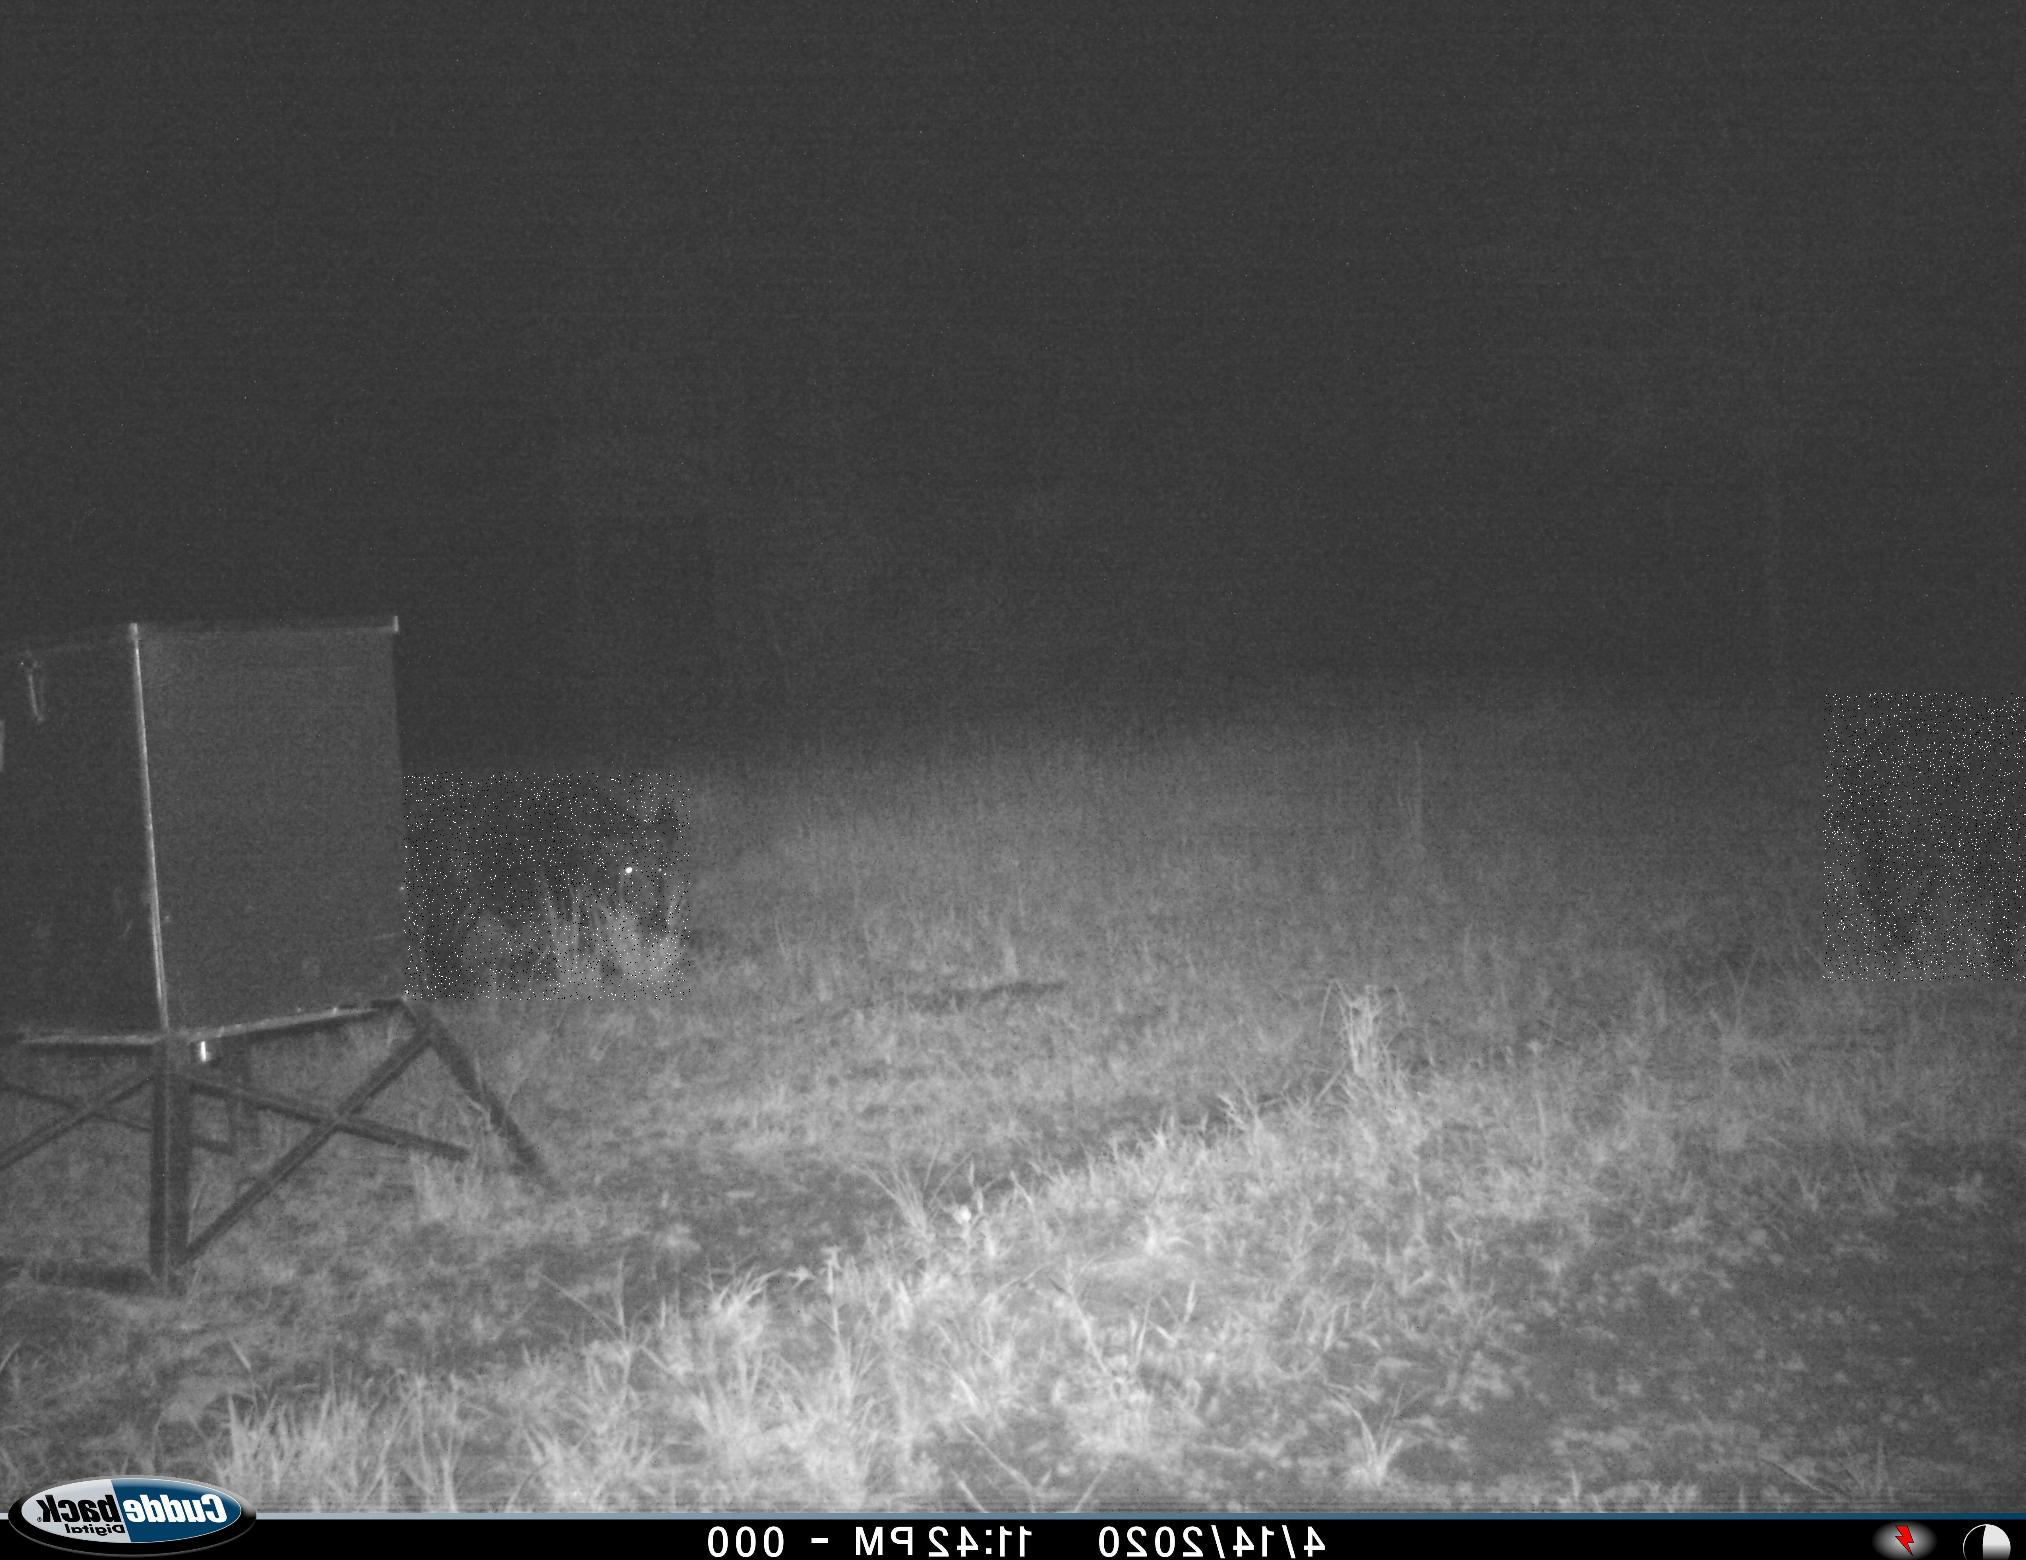Hog: (405, 772, 690, 1000), (1823, 693, 2026, 982)
